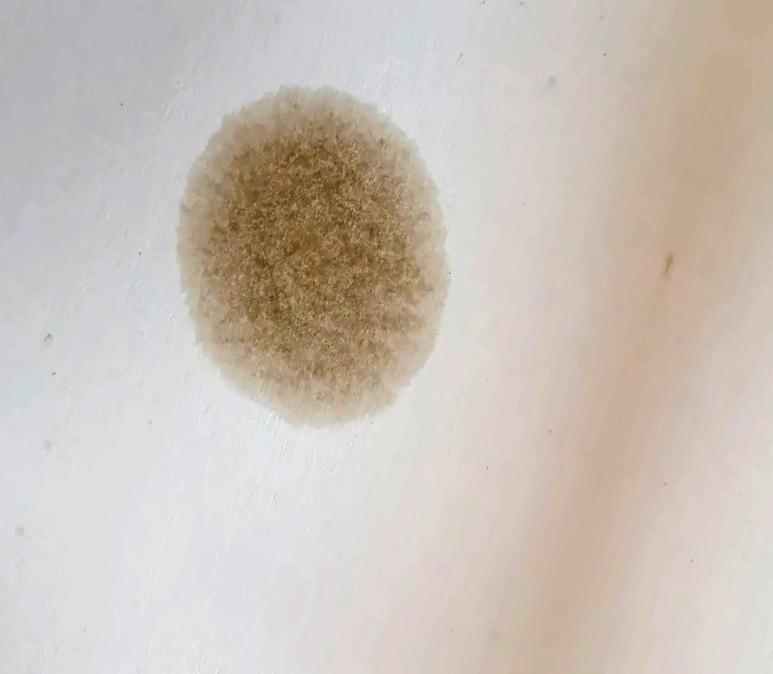stain: (169, 80, 459, 440)
